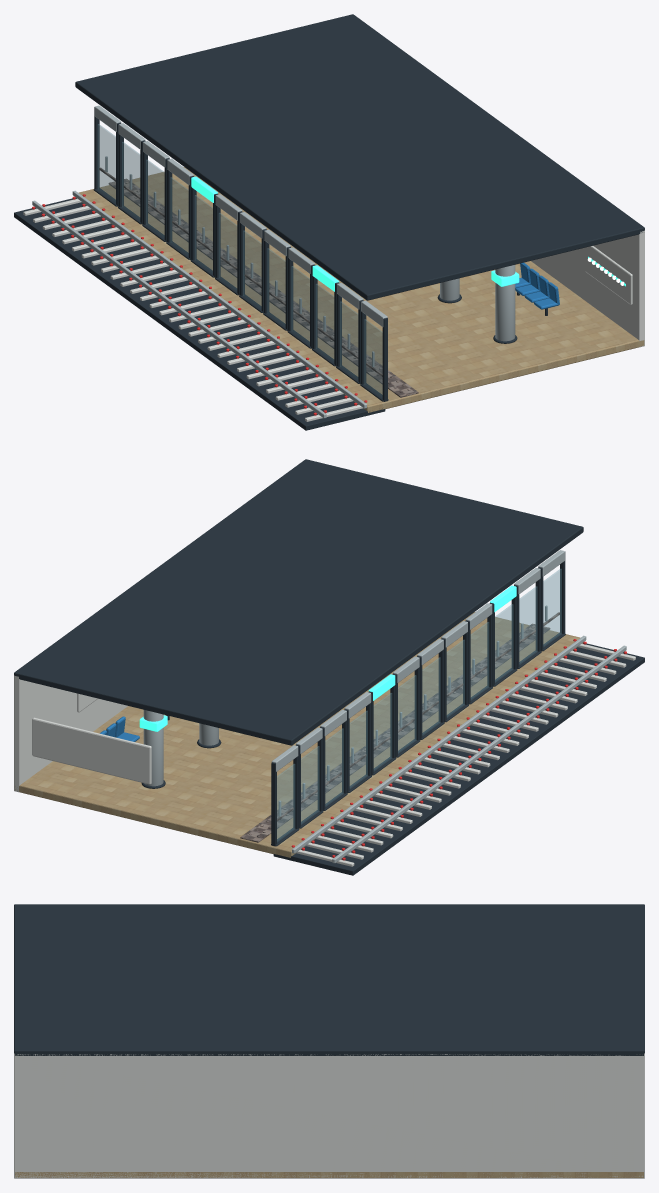
The model's file is seoul_subway_platform.glb.
3 views of the same model, one above another, from view 1: azimuth 30°, elevation 25°; view 2: azimuth 150°, elevation 25°; view 3: azimuth 270°, elevation 25° (orthographic). The views are drawn at different scales.
Parts seen in each view (by area): view 1: RefinedSurface_Subway_BlackSteel, Platform_Slab, RefinedSurface_Subway_ScreenDoorGlass, RefinedSurface_Subway_WarmTile, RefinedSurface_Subway_BrushedSteel, RefinedSurface_Subway_TactileYellow, seoul_subway_platform_Batch_04_Subway_EmergencyRed, RefinedSurface_Subway_WayfindingBlue, seoul_subway_platform_Batch_05_Subway_LineGreen; view 2: RefinedSurface_Subway_BlackSteel, Platform_Slab, RefinedSurface_Subway_WarmTile, RefinedSurface_Subway_ScreenDoorGlass, RefinedSurface_Subway_BrushedSteel, RefinedSurface_Subway_TactileYellow, seoul_subway_platform_Batch_04_Subway_EmergencyRed, seoul_subway_platform_Batch_05_Subway_LineGreen; view 3: RefinedSurface_Subway_BlackSteel, RefinedSurface_Subway_WarmTile, Platform_Slab.
Boxes of the visible parts, x1,y1,x2,y2 form: RefinedSurface_Subway_BlackSteel: (14, 14, 644, 430); Platform_Slab: (75, 167, 644, 412); RefinedSurface_Subway_ScreenDoorGlass: (98, 124, 382, 397); RefinedSurface_Subway_WarmTile: (23, 198, 644, 421); RefinedSurface_Subway_BrushedSteel: (32, 105, 515, 418); RefinedSurface_Subway_TactileYellow: (99, 167, 418, 397); seoul_subway_platform_Batch_04_Subway_EmergencyRed: (32, 194, 367, 415); RefinedSurface_Subway_WayfindingBlue: (515, 262, 559, 309); seoul_subway_platform_Batch_05_Subway_LineGreen: (191, 176, 625, 291); RefinedSurface_Subway_BlackSteel: (14, 459, 644, 875); Platform_Slab: (15, 612, 583, 857); RefinedSurface_Subway_WarmTile: (14, 643, 635, 866); RefinedSurface_Subway_ScreenDoorGlass: (277, 569, 561, 841); RefinedSurface_Subway_BrushedSteel: (143, 550, 626, 863); RefinedSurface_Subway_TactileYellow: (240, 612, 560, 842); seoul_subway_platform_Batch_04_Subway_EmergencyRed: (291, 639, 626, 860); seoul_subway_platform_Batch_05_Subway_LineGreen: (139, 585, 516, 731); RefinedSurface_Subway_BlackSteel: (14, 904, 644, 1055); RefinedSurface_Subway_WarmTile: (14, 1053, 644, 1178); Platform_Slab: (15, 1172, 643, 1177).
Size of the model in its own units: 13.43 by 4.56 by 20.
10 materials, 2 textured.
